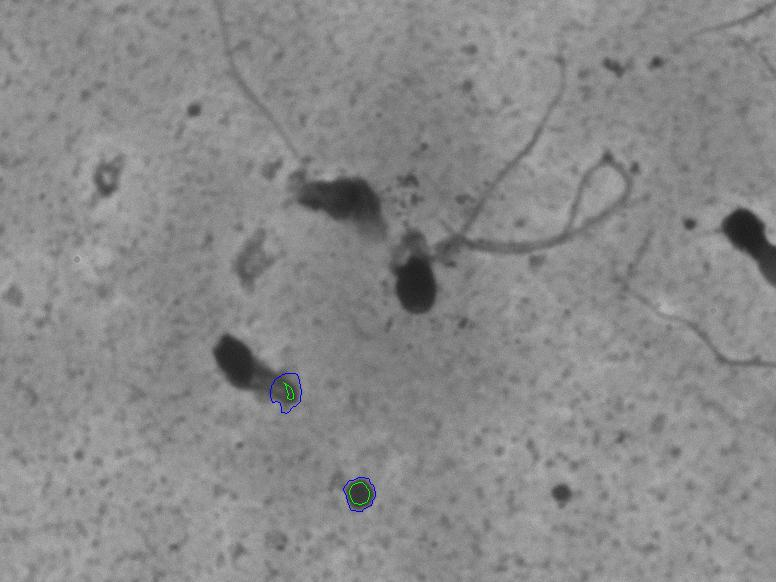Abnormal: (191, 300, 321, 440), (380, 211, 462, 342)
